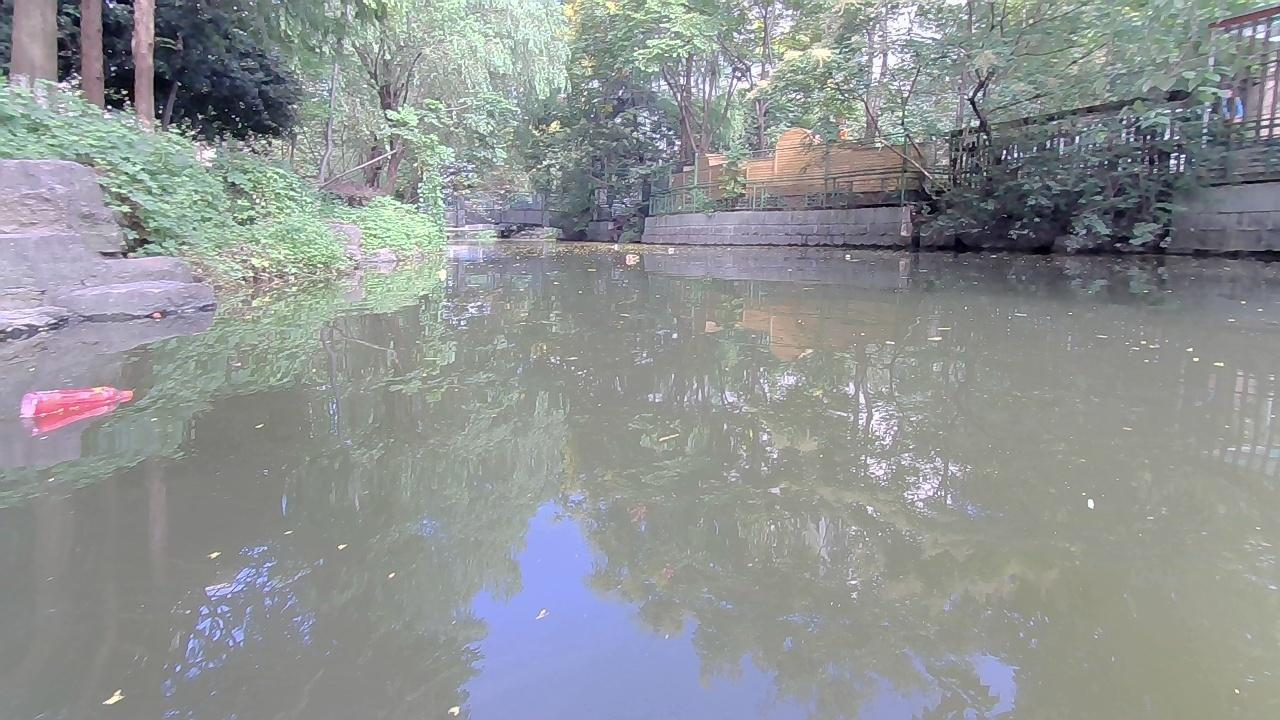bottle: (16, 384, 137, 420), (625, 253, 641, 264)
